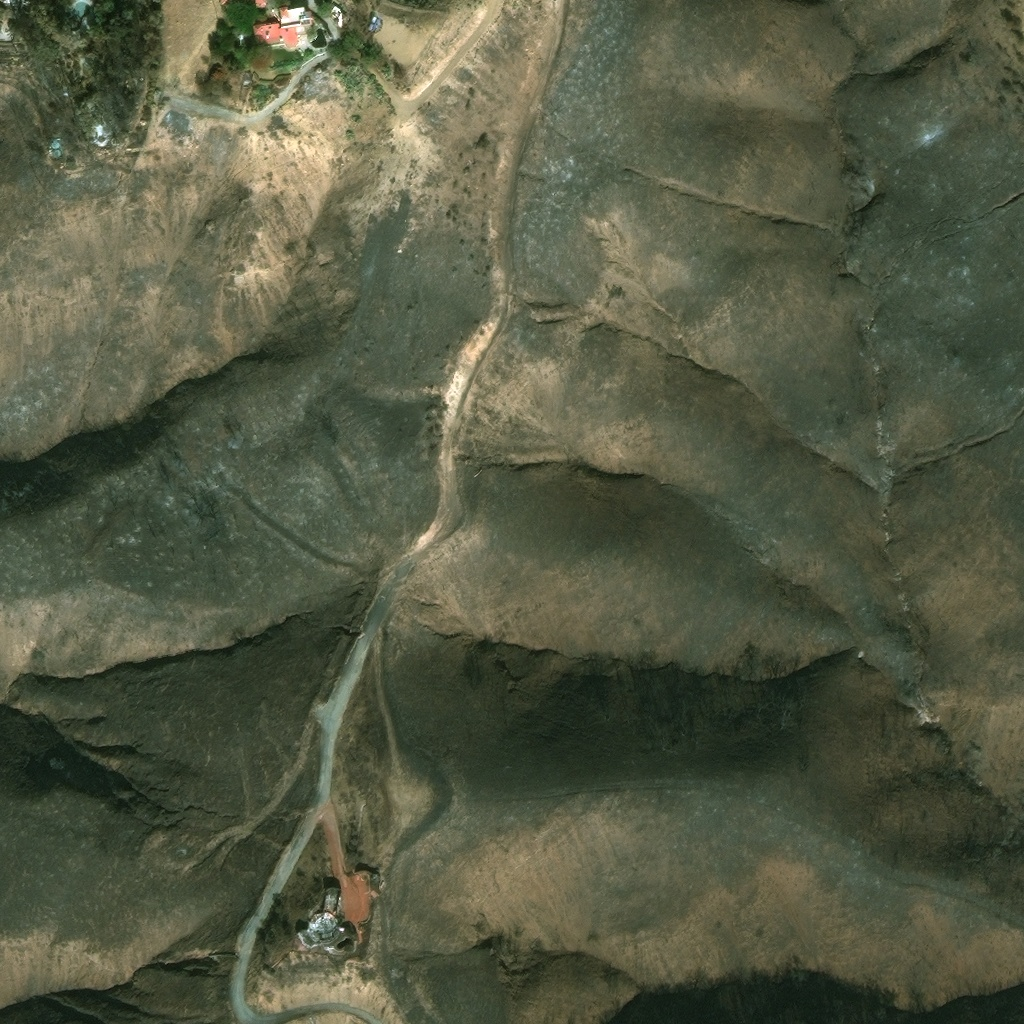0 no-damage: (250, 4, 312, 49), (363, 11, 382, 33), (328, 2, 343, 17)
2 major-damage: (299, 885, 354, 954), (46, 136, 63, 158)
4 un-classified: (0, 0, 30, 11), (219, 0, 266, 6)
